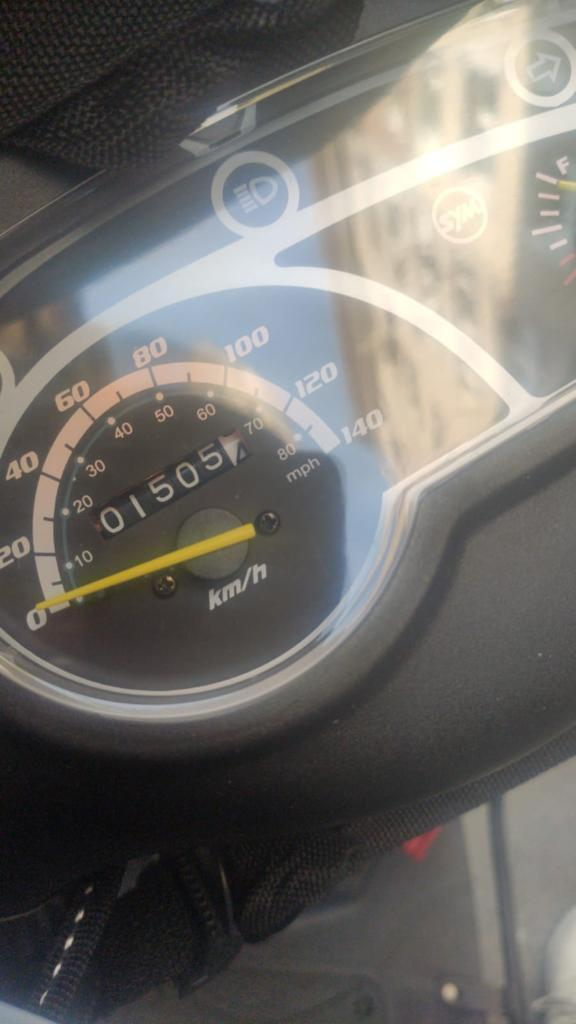0: (172, 461, 203, 488), (97, 507, 126, 534), (82, 492, 94, 507), (120, 421, 133, 434), (94, 459, 106, 472)
1: (126, 493, 148, 519)
3: (85, 464, 98, 479)
4: (230, 439, 252, 466), (112, 426, 124, 440)
5: (144, 473, 176, 503), (195, 442, 225, 470)
7: (243, 421, 255, 436)
odometer: (86, 423, 260, 543)
